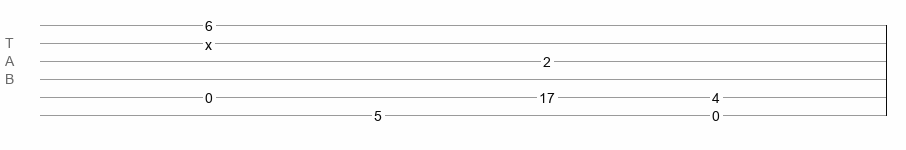0: (205, 90, 213, 100), (712, 108, 720, 118)
17: (539, 90, 555, 100)
2: (543, 54, 551, 64)
4: (712, 90, 720, 100)
5: (374, 108, 382, 118)
6: (205, 18, 213, 28)
x: (205, 37, 212, 45)
